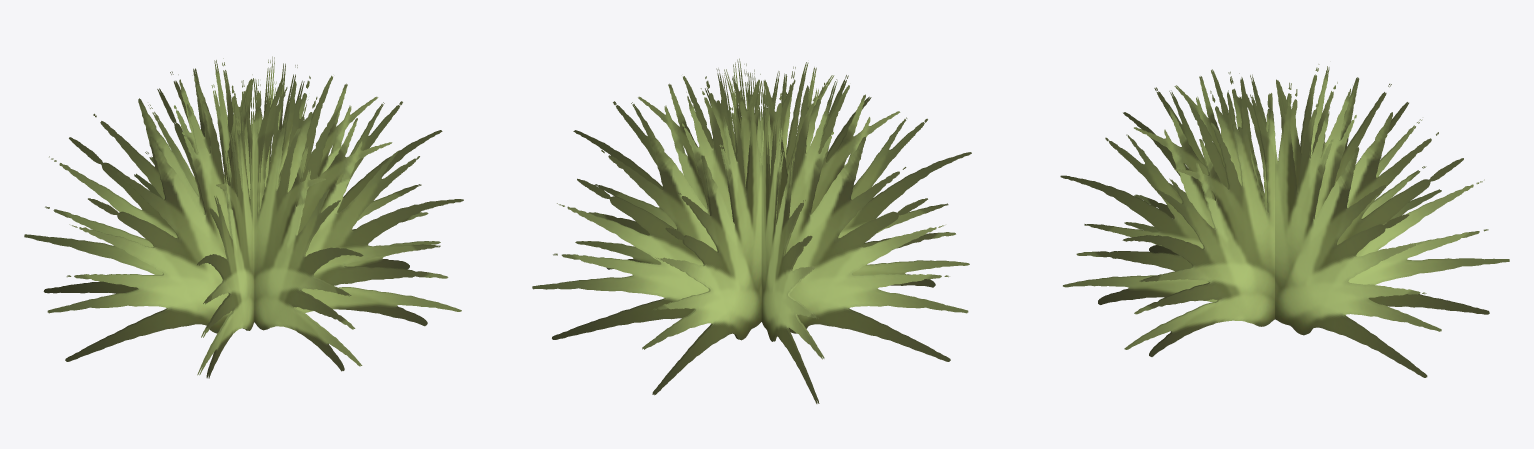
File: HP3_weed4 1.fbx
3 views of the same model, side by side, from view 1: azimuth 30°, elevation 25°; view 2: azimuth 150°, elevation 25°; view 3: azimuth 270°, elevation 25° (orthographic).
Visible parts, largest first — view 1: HP3_weed4; view 2: HP3_weed4; view 3: HP3_weed4.
Part boxes in pixels (<box>): HP3_weed4: <box>24,56,463,378</box>; HP3_weed4: <box>532,58,971,403</box>; HP3_weed4: <box>1060,64,1509,377</box>.
Bounding box in the file's own units: 10 × 6.65 × 10.
